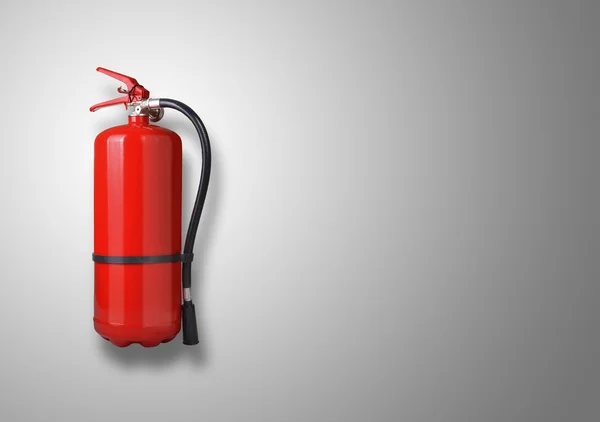fire_extinguisher: (89, 66, 212, 348)
